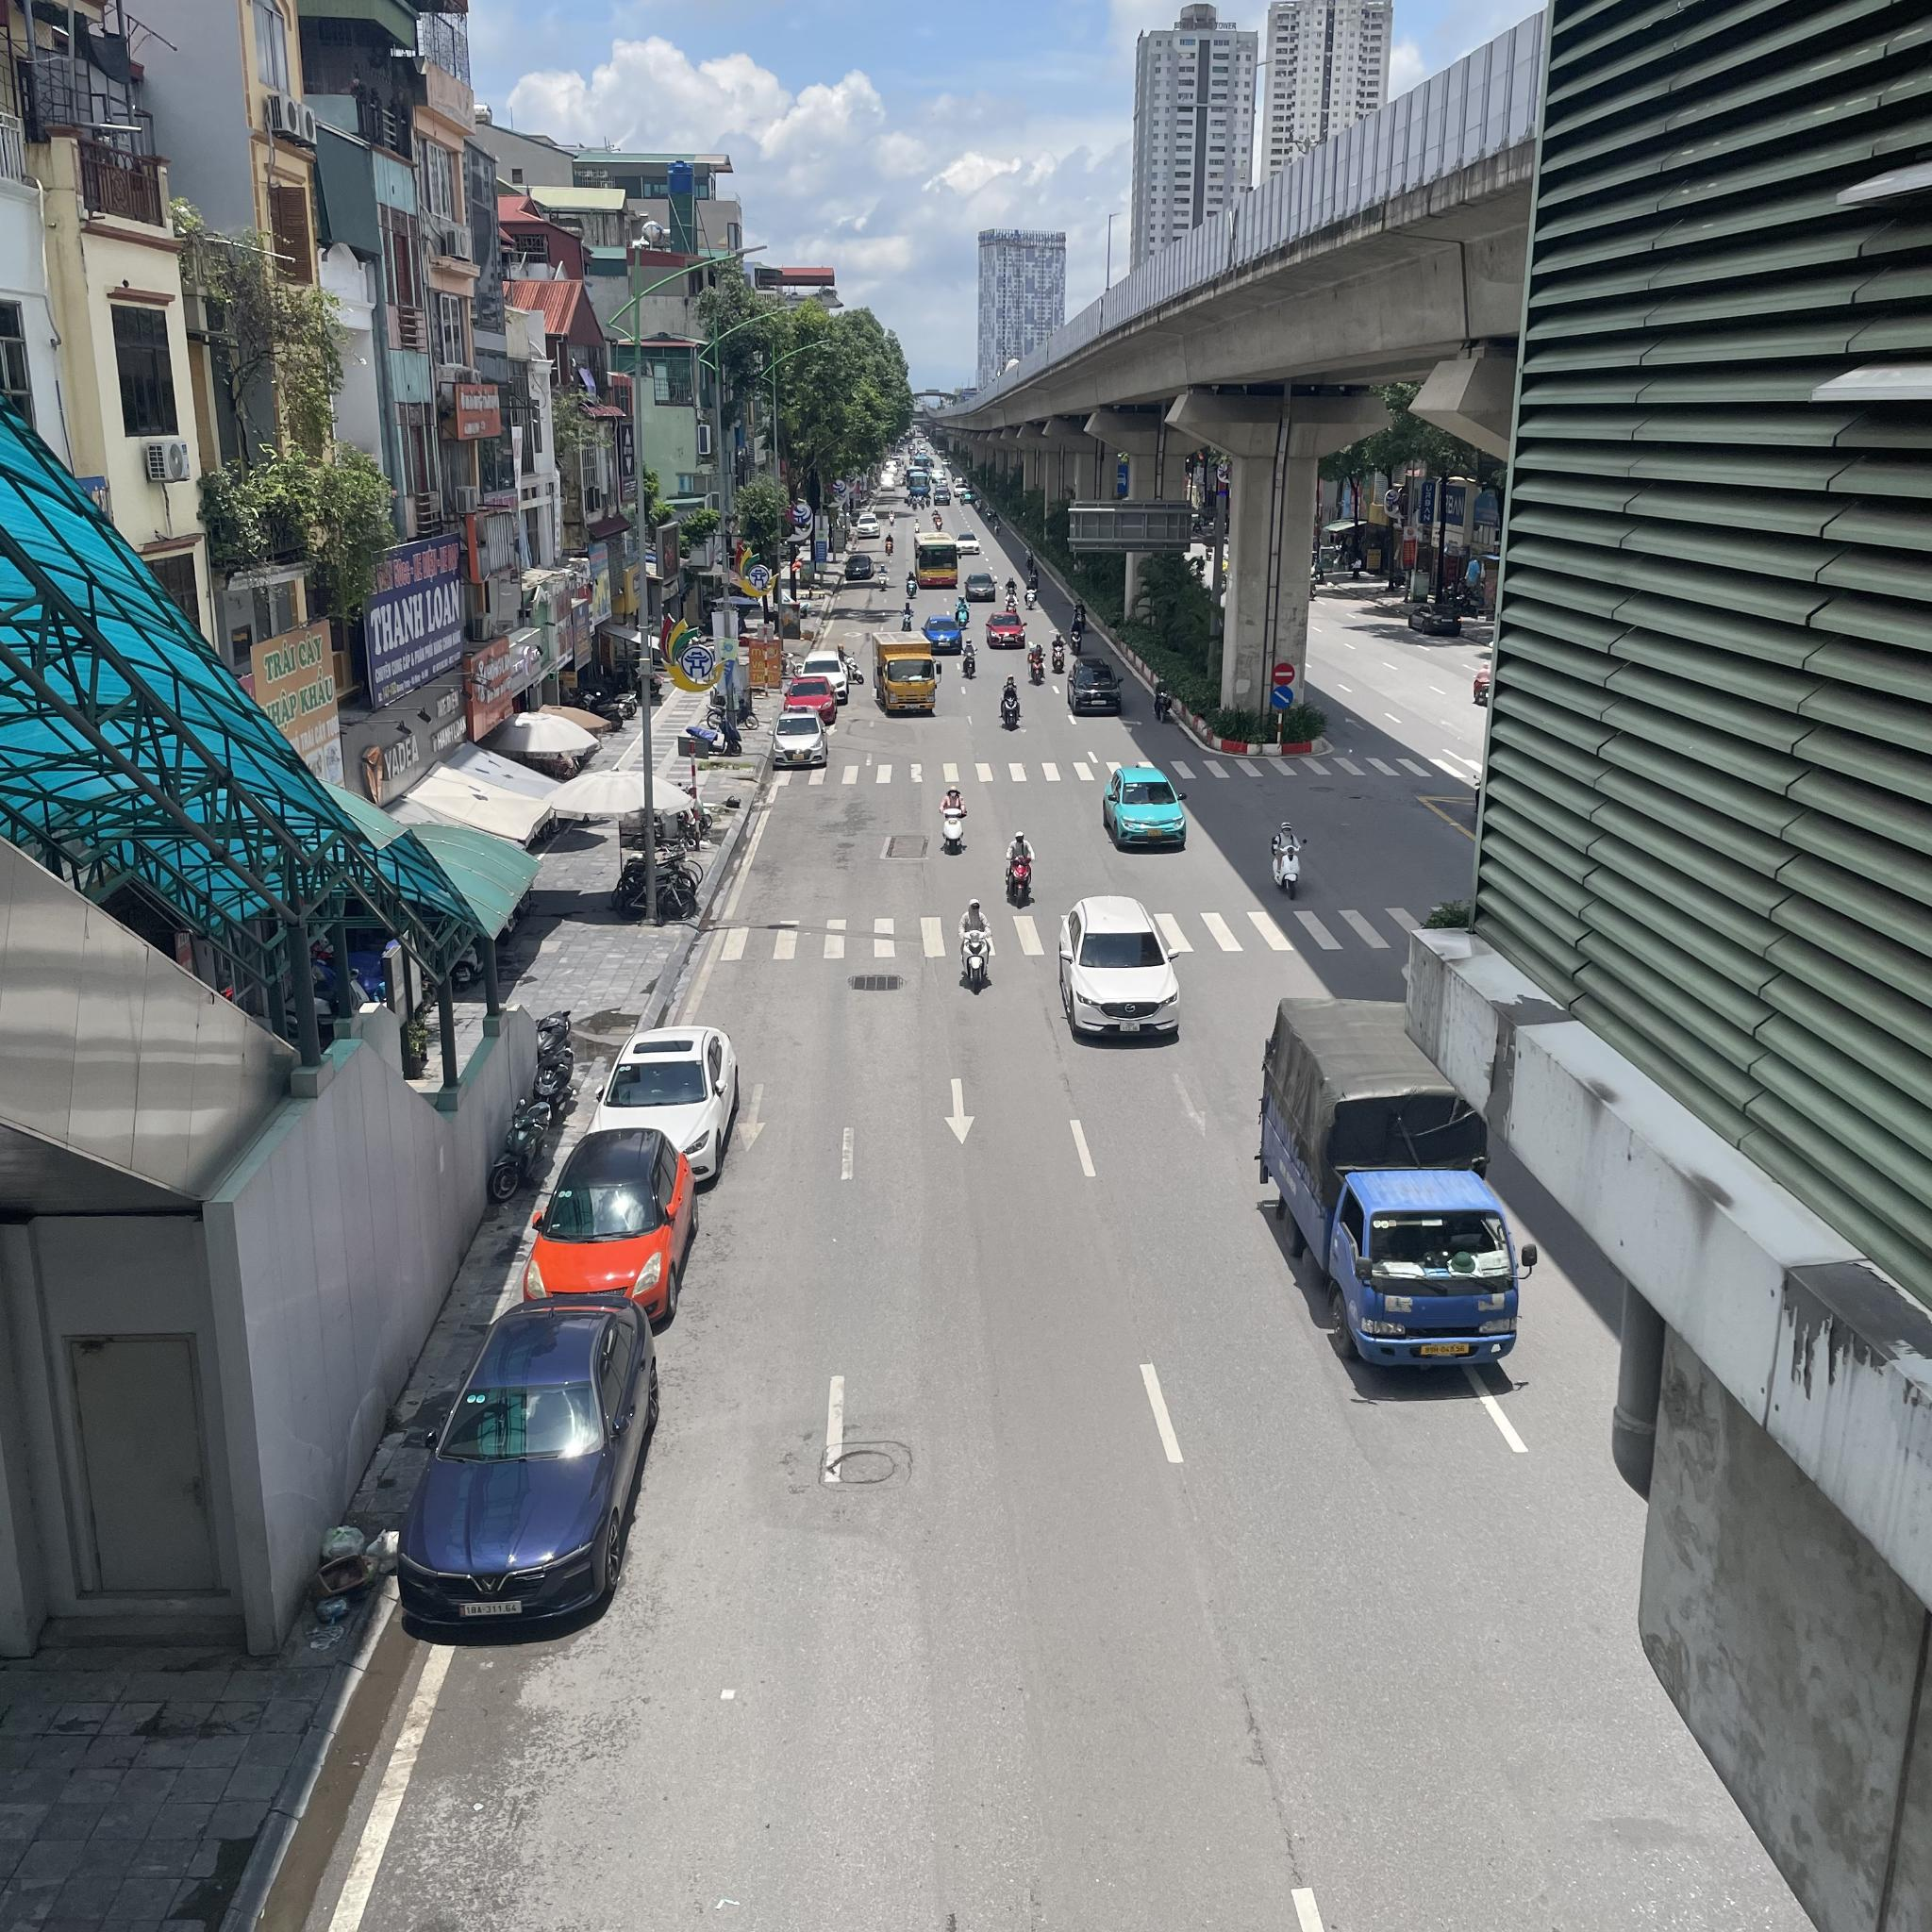car: (1258, 991, 1535, 1376), (385, 1300, 681, 1632), (1054, 902, 1190, 1052), (1108, 761, 1194, 855), (871, 632, 935, 716), (1067, 656, 1123, 716), (772, 712, 828, 767), (984, 612, 1024, 648)
motobike: (955, 895, 1001, 1001), (1268, 822, 1312, 898), (1003, 831, 1039, 906), (940, 780, 970, 855), (999, 678, 1026, 732), (1152, 675, 1172, 724), (1030, 644, 1046, 686), (963, 639, 977, 679), (1052, 634, 1065, 674), (902, 602, 917, 631), (1071, 618, 1082, 656), (958, 595, 969, 627), (905, 572, 916, 597), (877, 564, 888, 591)
